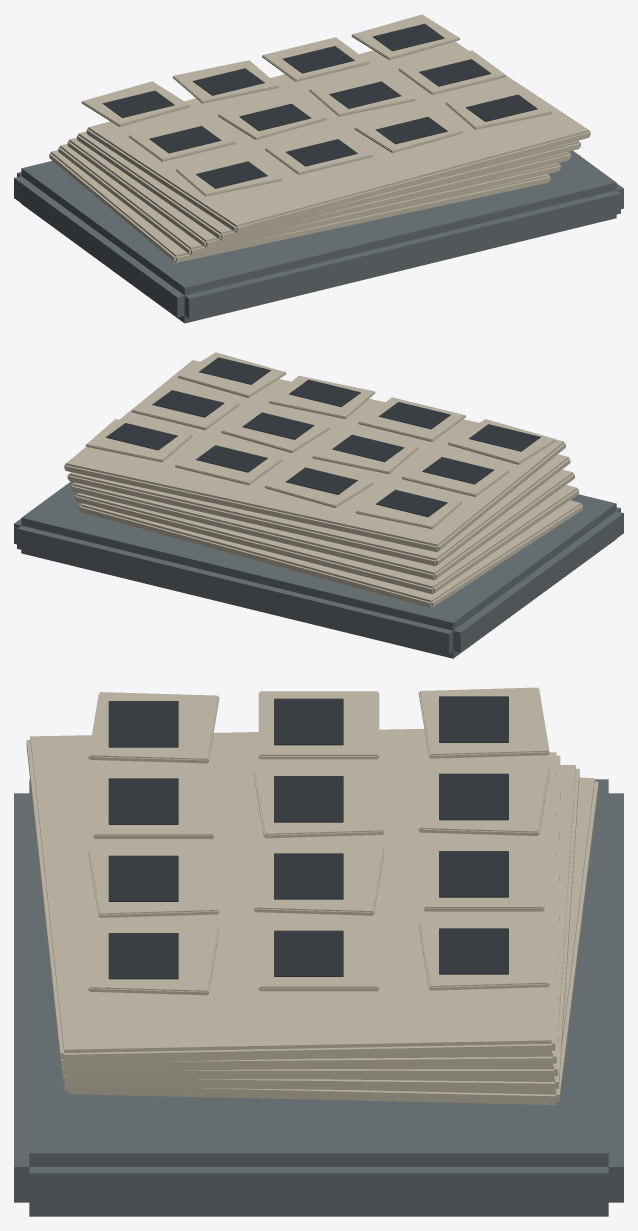
The model's file is OBJ-080_ArchivoFisico.fbx.
3 renders of one model, top to bottom at view 1: azimuth 30°, elevation 25°; view 2: azimuth 150°, elevation 25°; view 3: azimuth 270°, elevation 25°, orthographic. The views are drawn at different scales.
Visible parts, largest first — view 1: document_tray, folder_04, folder_00, folder_01, folder_02, folder_03, DOC-09, DOC-03, DOC-08, DOC-11, DOC-01, DOC-02 (+18 smaller); view 2: document_tray, folder_04, folder_03, folder_02, folder_01, folder_00, DOC-07, DOC-05, DOC-08, DOC-11, DOC-01, DOC-04 (+18 smaller); view 3: document_tray, folder_04, folder_00, folder_01, folder_02, folder_03, DOC-07, DOC-05, DOC-08, DOC-12, DOC-01, DOC-04 (+18 smaller).
Part boxes in pixels (x1,y1,x2,y2): document_tray: (14,150,623,323); folder_04: (86,41,590,232); folder_00: (49,150,550,262); folder_01: (58,144,560,255); folder_02: (67,137,570,247); folder_03: (77,131,580,240); DOC-09: (81,81,190,126); DOC-03: (354,107,463,153); DOC-08: (398,50,506,94); DOC-11: (262,37,369,81); DOC-01: (176,153,282,196); DOC-02: (265,130,372,174); document_tray: (14,481,623,658); folder_04: (64,360,565,552); folder_03: (67,454,570,566); folder_02: (71,469,574,580); folder_01: (75,485,578,594); folder_00: (78,500,582,608); DOC-07: (221,407,329,452); DOC-05: (401,452,509,496); DOC-08: (131,385,239,430); DOC-11: (175,440,282,485); DOC-01: (447,419,556,464); DOC-04: (178,352,286,397); document_tray: (14,779,623,1216); folder_04: (26,728,555,1063); folder_00: (64,777,598,1104); folder_01: (63,765,579,1092); folder_02: (62,752,560,1079); folder_03: (61,755,556,1071); DOC-07: (253,844,384,915); DOC-05: (258,691,379,759); DOC-08: (258,923,379,991); DOC-12: (418,919,549,990); DOC-01: (88,692,219,763); DOC-04: (88,924,219,995).
Size of the model in its own units: 0.72 by 0.1685 by 0.48.
